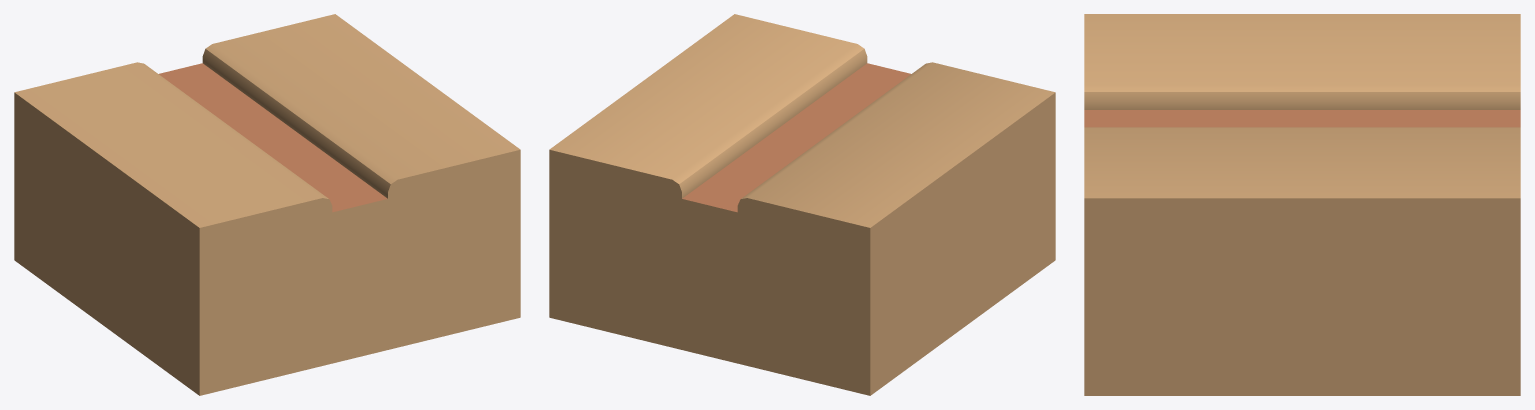
File: square_sand_roadB.glb
3 views of the same model, side by side, from view 1: azimuth 30°, elevation 25°; view 2: azimuth 150°, elevation 25°; view 3: azimuth 270°, elevation 25° (orthographic). The views are drawn at different scales.
Visible parts, largest first — view 1: square_sand_roadB; view 2: square_sand_roadB; view 3: square_sand_roadB.
Part boxes in pixels (box(x1,y1,x2,y2)): square_sand_roadB: box(14, 14, 520, 395); square_sand_roadB: box(549, 14, 1055, 395); square_sand_roadB: box(1084, 14, 1520, 395).
Bounding box in the file's own units: 2 × 1 × 2.
